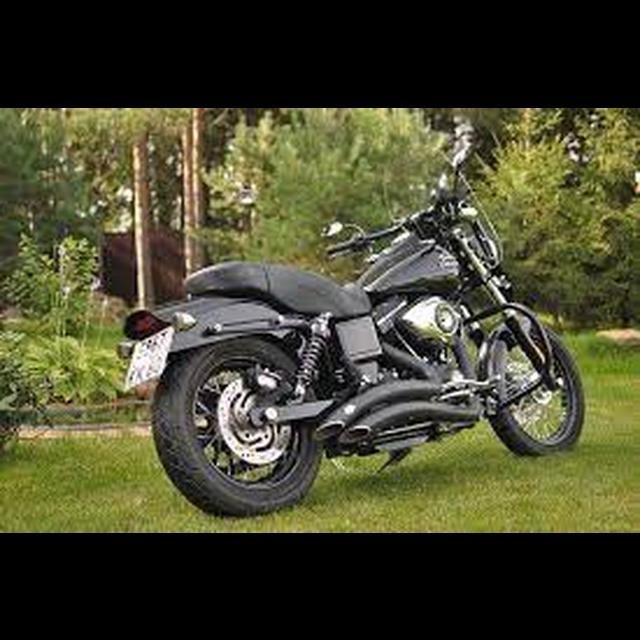motorcycle: (113, 115, 590, 519)
